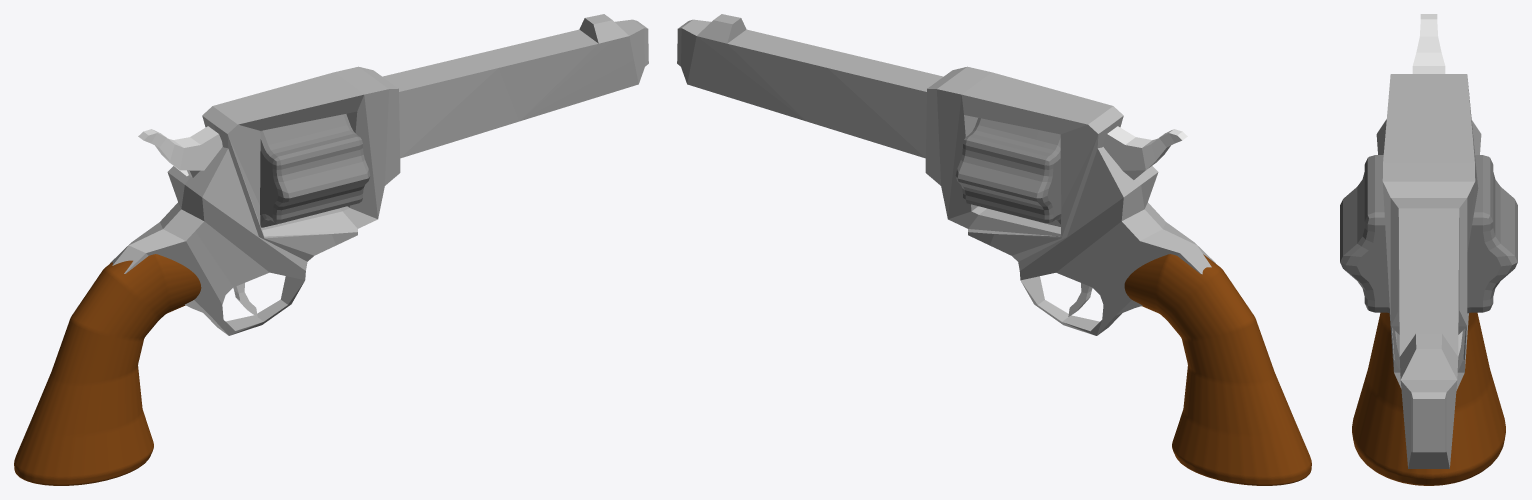
File: revolver 1.fbx
3 renders of one model, left to right at view 1: azimuth 30°, elevation 25°; view 2: azimuth 150°, elevation 25°; view 3: azimuth 270°, elevation 25°, orthographic. The views are drawn at different scales.
Parts seen in each view (by area): view 1: Revolver, Circle, Cube.002, Cube.001; view 2: Revolver, Circle, Cube.002, Cube.001; view 3: Revolver, Circle, Cube.002, Cube.001.
Part boxes in pixels (x1=…): Revolver: x1=110, y1=14, x2=648, y2=335; Circle: x1=14, y1=254, x2=201, y2=485; Cube.002: x1=260, y1=114, x2=370, y2=227; Cube.001: x1=138, y1=126, x2=222, y2=177; Revolver: x1=677, y1=14, x2=1215, y2=335; Circle: x1=1124, y1=254, x2=1311, y2=485; Cube.002: x1=955, y1=118, x2=1061, y2=226; Cube.001: x1=1103, y1=126, x2=1187, y2=179; Revolver: x1=1376, y1=74, x2=1481, y2=468; Circle: x1=1352, y1=312, x2=1505, y2=485; Cube.002: x1=1340, y1=155, x2=1517, y2=313; Cube.001: x1=1412, y1=14, x2=1445, y2=73.
Bounding box in the file's own units: 897 × 446 × 147.
